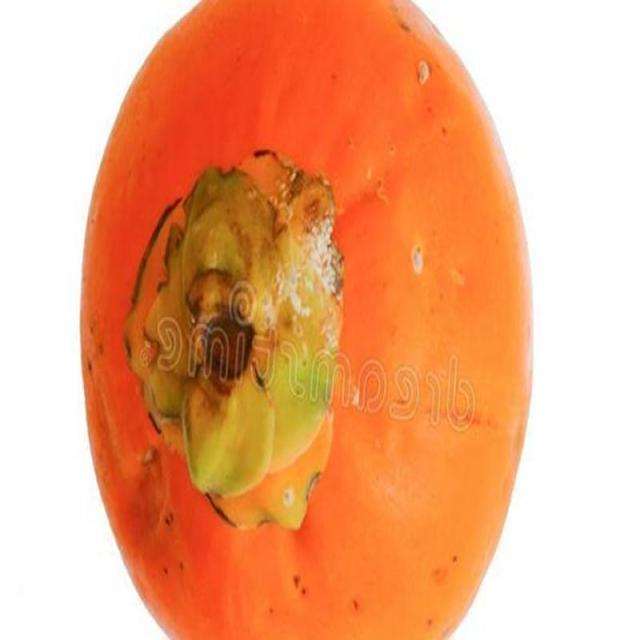good: (78, 0, 538, 639)
